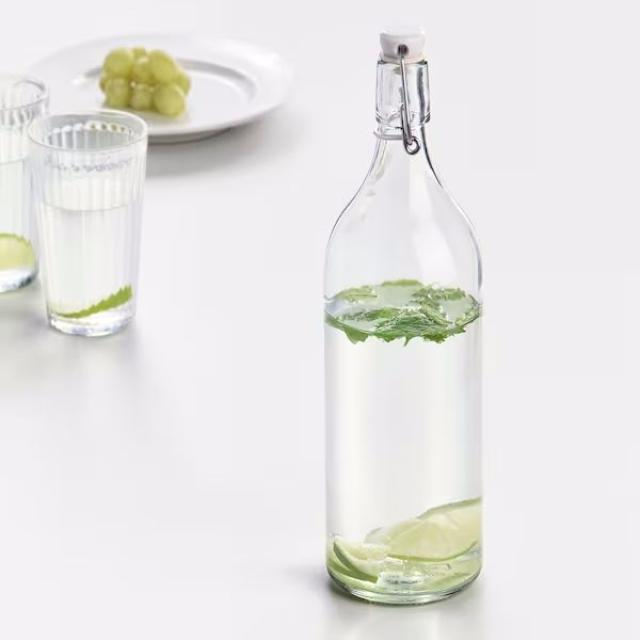glass: (322, 25, 486, 608), (27, 109, 149, 339)
